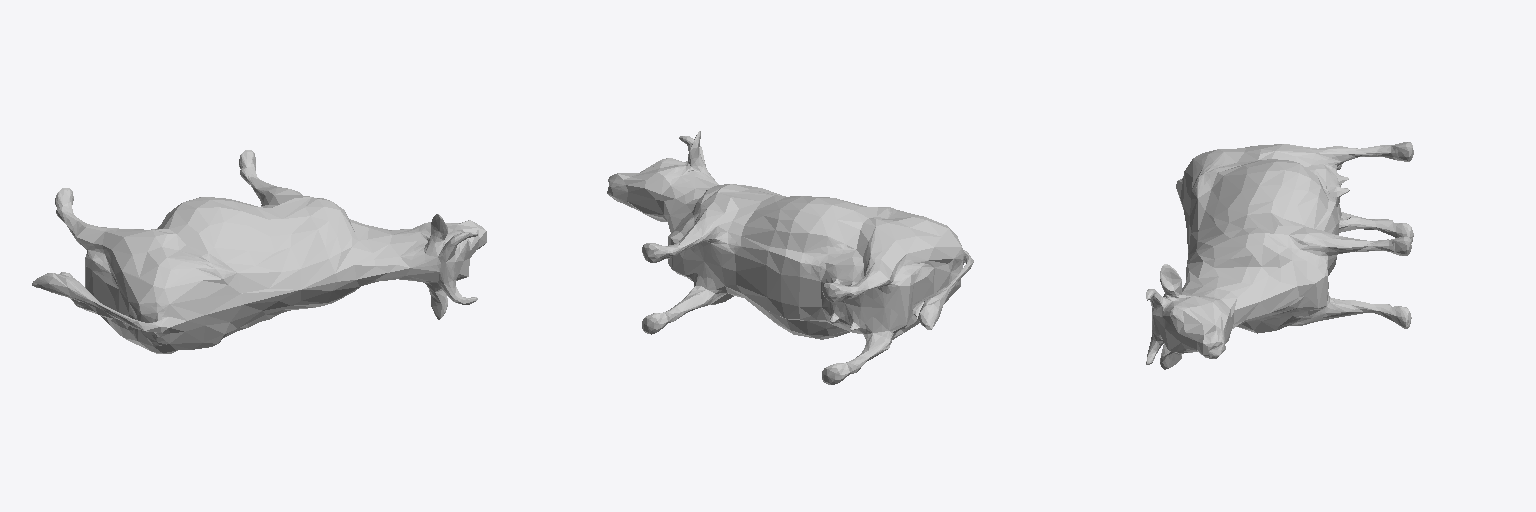
File: cow.obj
3 renders of one model, left to right at view 1: azimuth 30°, elevation 25°; view 2: azimuth 150°, elevation 25°; view 3: azimuth 270°, elevation 25°, orthographic.
Visible parts, largest first — view 1: Group__0; view 2: Group__0; view 3: Group__0.
Part boxes in pixels (x1,y1,x2,y2): Group__0: (32,150,486,353); Group__0: (607,131,973,384); Group__0: (1146,142,1413,369).
Bounding box in the file's own units: 1.07 × 0.3403 × 0.6384.